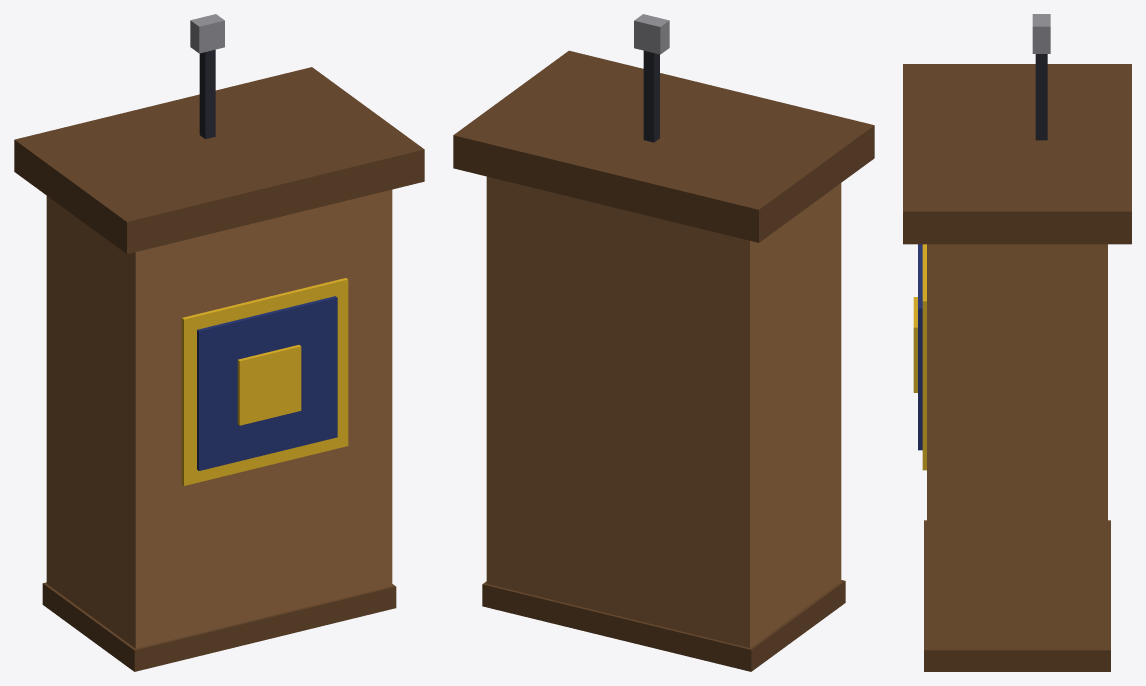
File: pres_podium.glb
The picture shows the model from 3 angles, left to right: view 1: azimuth 30°, elevation 25°; view 2: azimuth 150°, elevation 25°; view 3: azimuth 270°, elevation 25°; orthographic projection. The views are drawn at different scales.
Visible parts, largest first — view 1: pres_podium; view 2: pres_podium; view 3: pres_podium.
Boxes of the visible parts, box(x1,y1,x2,y2) form: pres_podium: box(14, 14, 424, 671); pres_podium: box(453, 14, 874, 671); pres_podium: box(903, 14, 1131, 671).
Size of the model in its own units: 0.58 by 1.08 by 0.38.
1 material, 1 textured.
